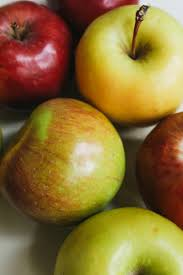apple: (54, 206, 183, 275)
